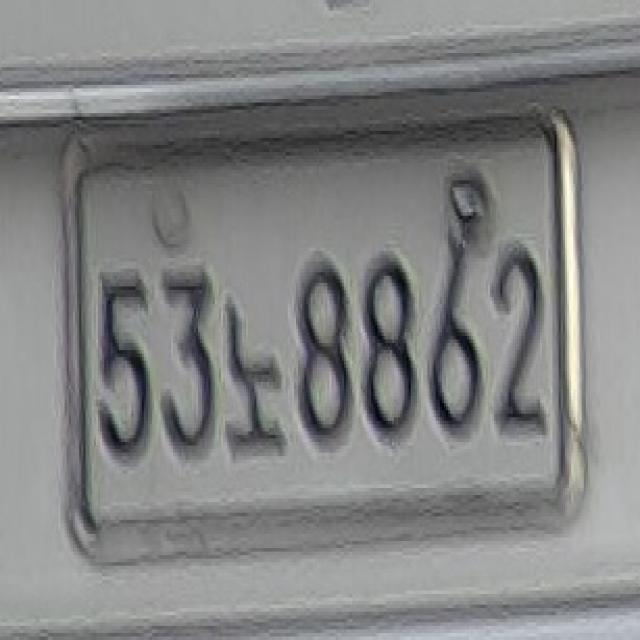2: (486, 233, 548, 452)
3: (152, 247, 219, 474)
5: (86, 269, 162, 470)
6: (421, 230, 492, 452)
8: (287, 244, 358, 456), (365, 244, 423, 460)
license_plate: (40, 113, 592, 541)
no: (215, 283, 288, 470)
